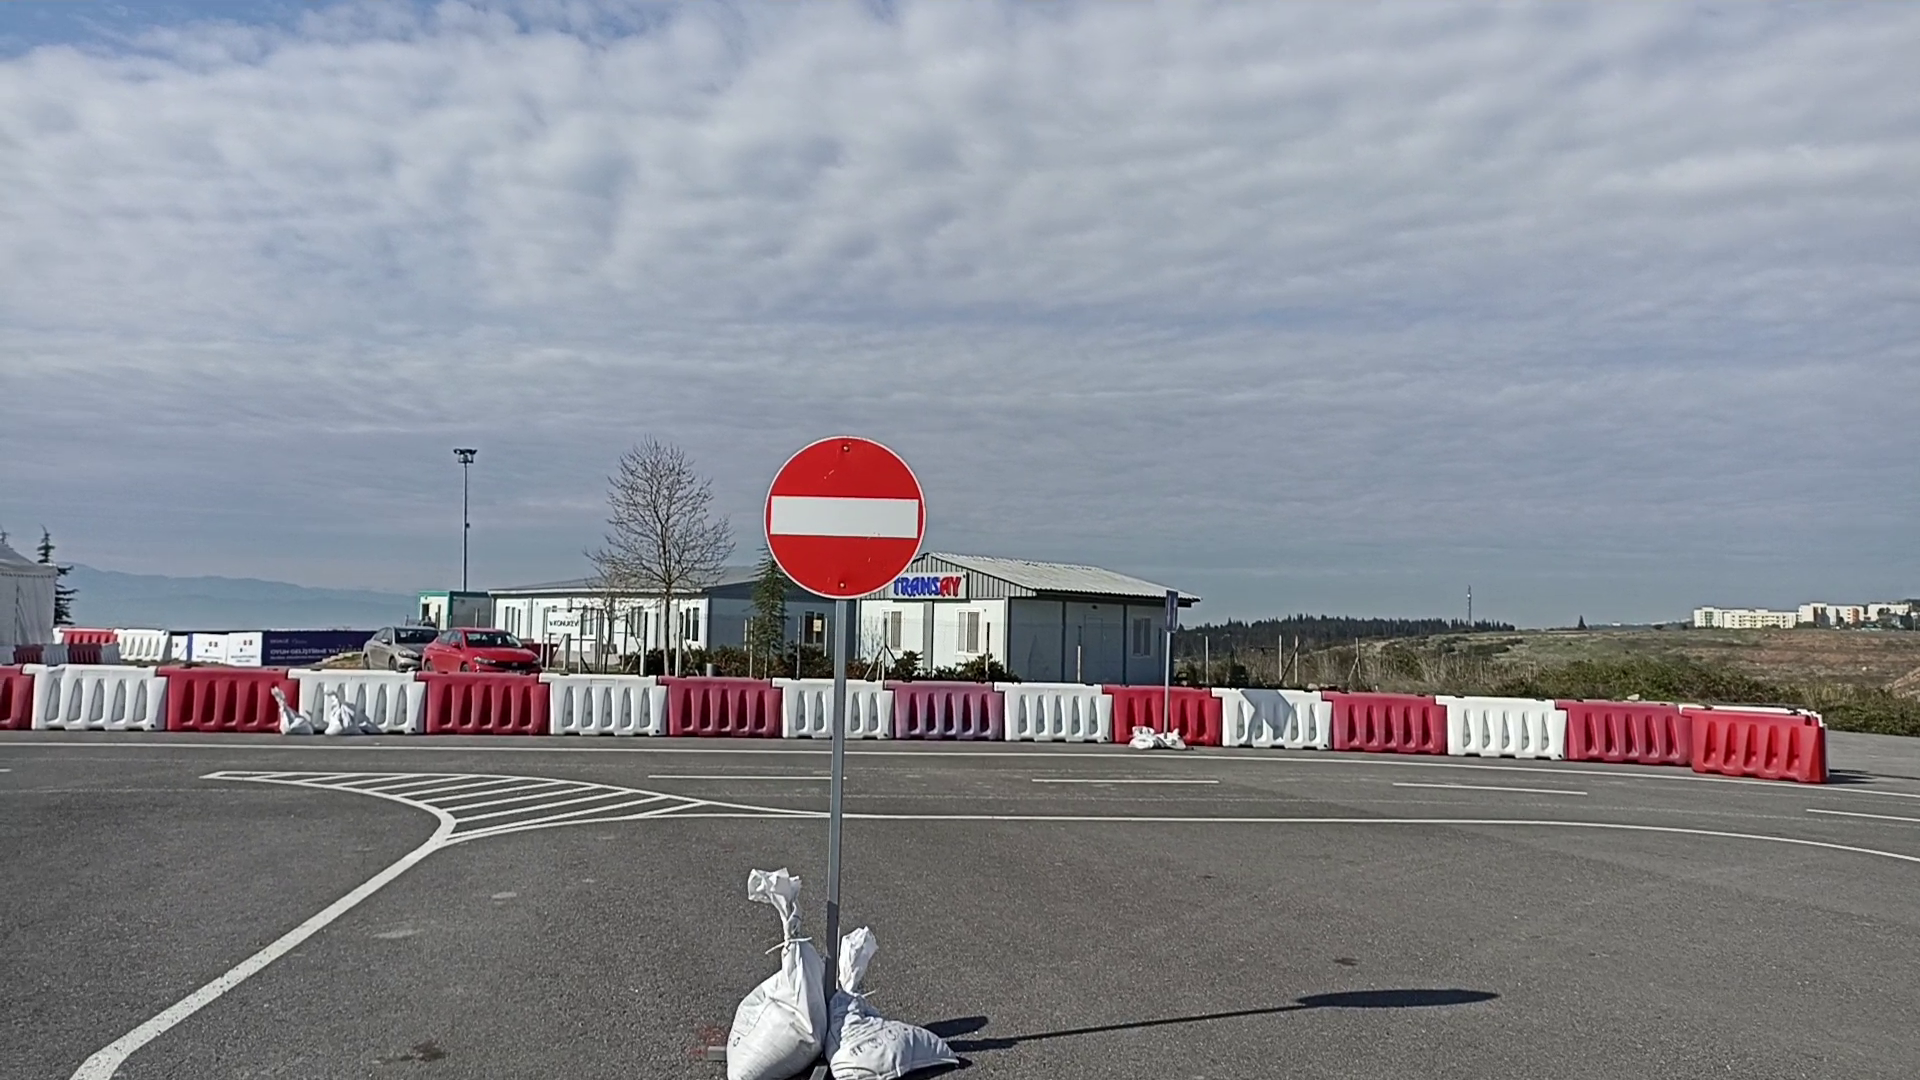noentryway: (764, 433, 930, 604)
